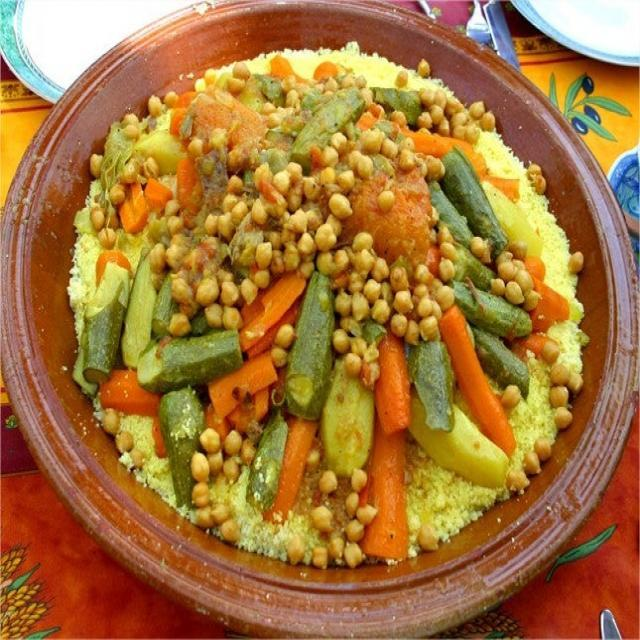Couscous: (73, 49, 584, 572)
